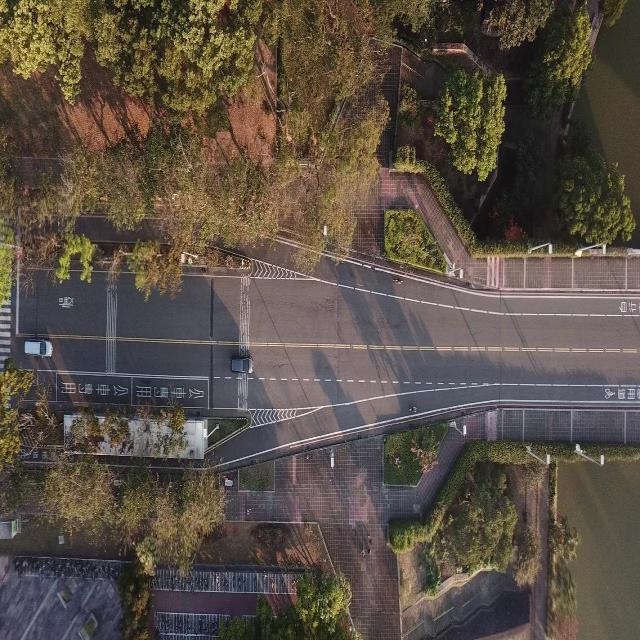bike: (407, 404, 418, 414), (393, 276, 403, 287)
car: (22, 337, 52, 357), (230, 355, 252, 373)
